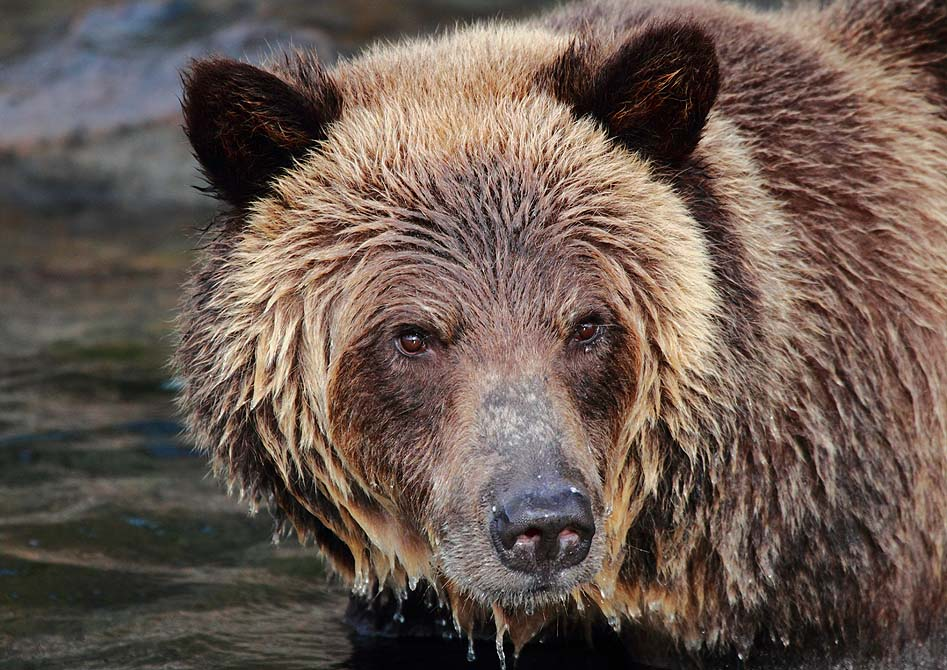bear: (162, 13, 735, 649)
